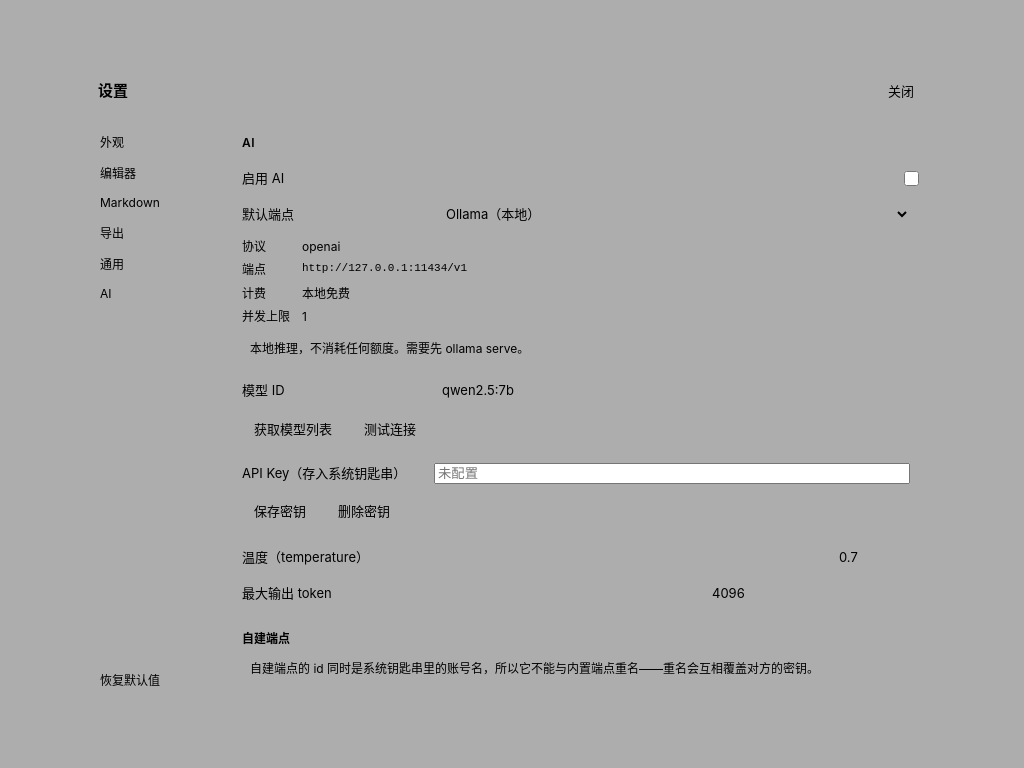
it: 界面层：点得动、选得出、存得下 › 端点不支持列表时给出明确提示，且不出现下拉框
This screenshot has width=1024, height=768.
Click the button "获取模型列表" at [293, 428], box [242,414,344,443]
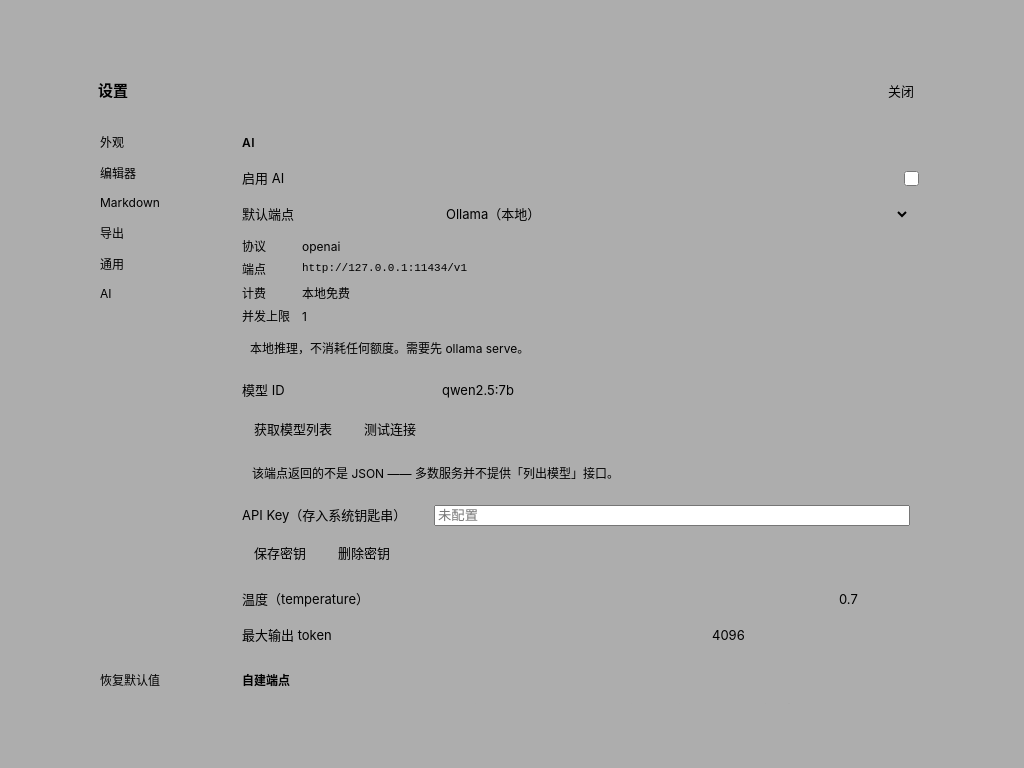
Result: the message "该端点返回的不是 JSON —— 多数服务并不提供「列出模型」接口。" is shown at [252,466,619,481]
